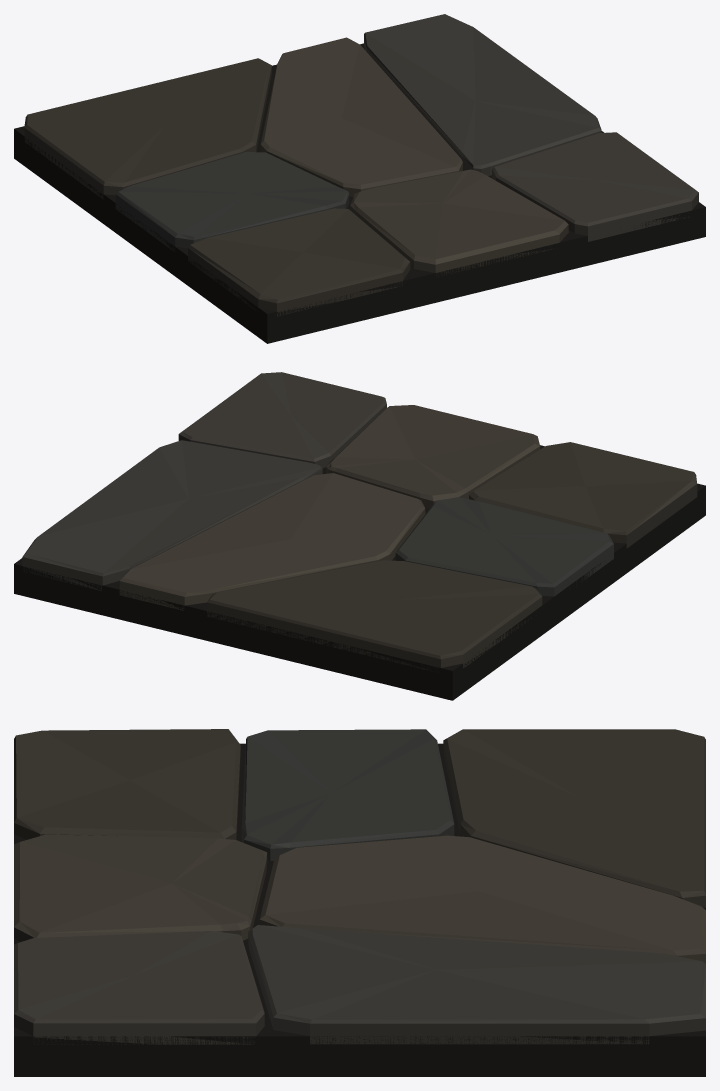
File: Floor_2m_B.fbx
The picture shows the model from 3 angles, top to bottom: view 1: azimuth 30°, elevation 25°; view 2: azimuth 150°, elevation 25°; view 3: azimuth 270°, elevation 25°; orthographic projection. The views are drawn at different scales.
Parts seen in each view (by area): view 1: Floor_2m_B; view 2: Floor_2m_B; view 3: Floor_2m_B.
Part boxes in pixels (<box>): Floor_2m_B: <box>14,14,705,343</box>; Floor_2m_B: <box>14,372,705,700</box>; Floor_2m_B: <box>14,729,705,1076</box>.
Size of the model in its own units: 2 by 0.18 by 2.
1 material, 1 textured.
